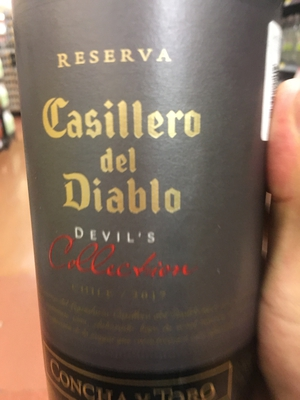casillero del diablo devils collection rojo: (13, 1, 267, 388)
